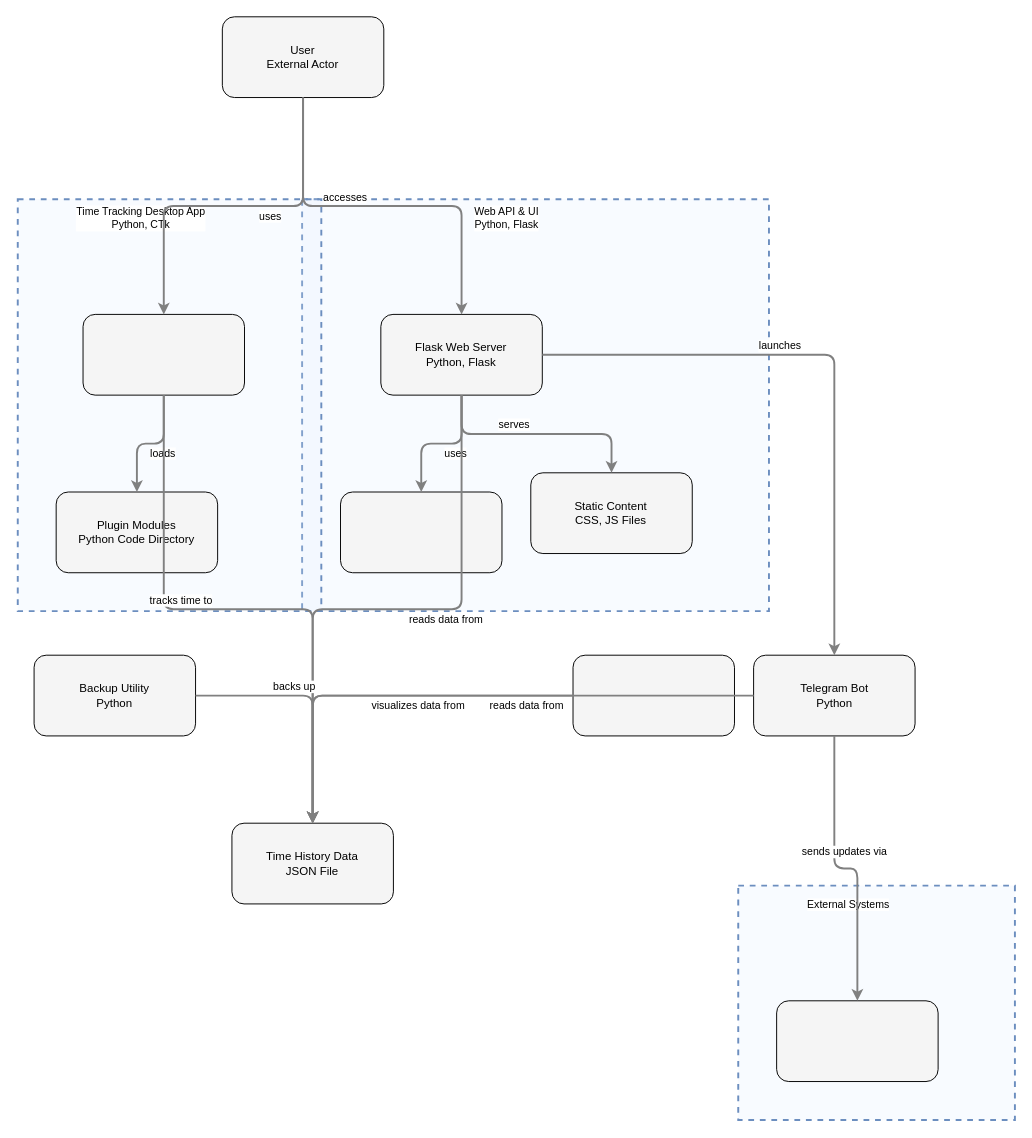
The diagram is 1032 pixels wide and 1138 high, and some of its shapes have lost their labels. The box of each missing label's shape, as (x1, y1, x2, y2) in pixels:
Data Visualizer Python, CTk: (572, 654, 734, 736)
HTML Templates HTML Files: (340, 491, 502, 573)
Messaging APIs Telegram, etc.: (776, 1000, 938, 1082)
Time Tracker Core Python, CTk: (82, 313, 245, 395)
